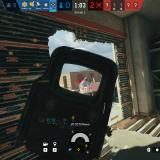Character: (80, 77, 91, 95)
Head: (84, 77, 88, 83)
